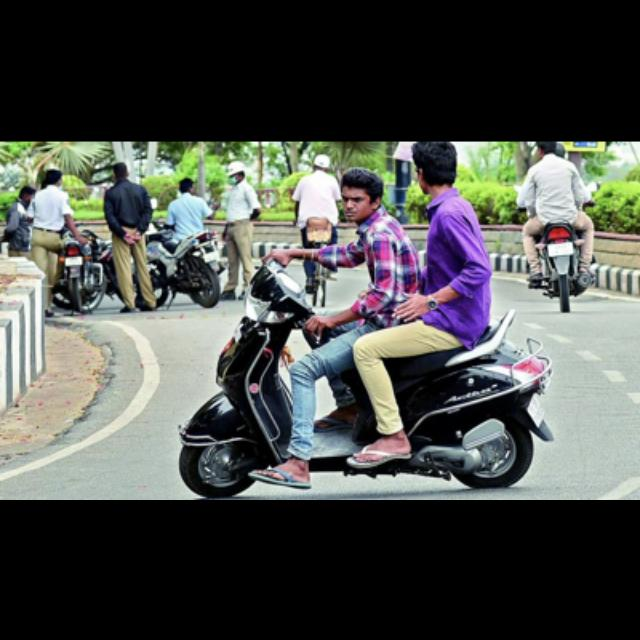Without Helmet: (333, 161, 389, 231), (398, 140, 468, 196)
